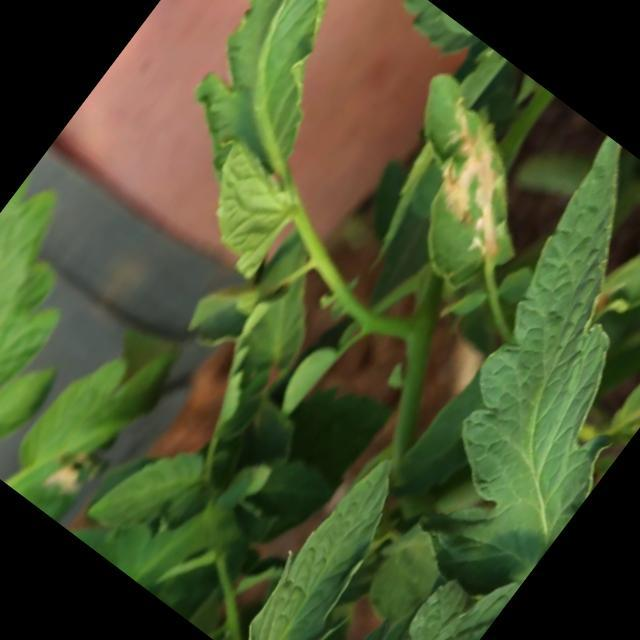Tomato healthy leaf: (333, 133, 640, 616), (218, 439, 447, 640)
Tomato target spot leaf: (339, 60, 586, 309)
